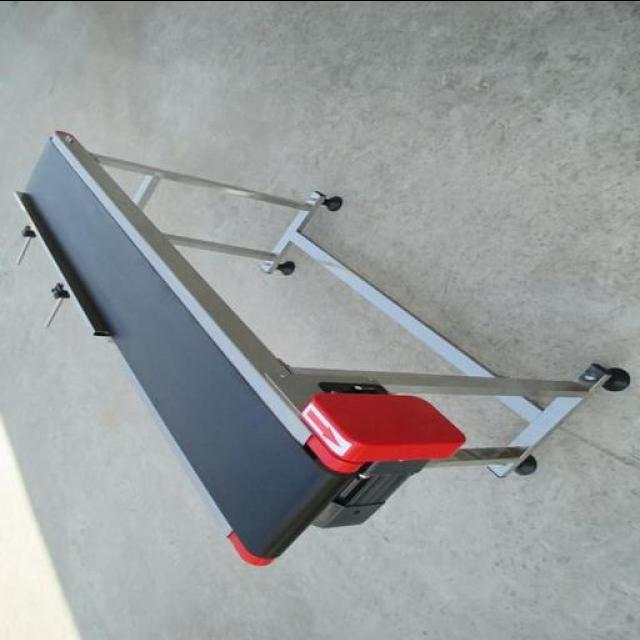conveyor: (24, 136, 342, 567)
